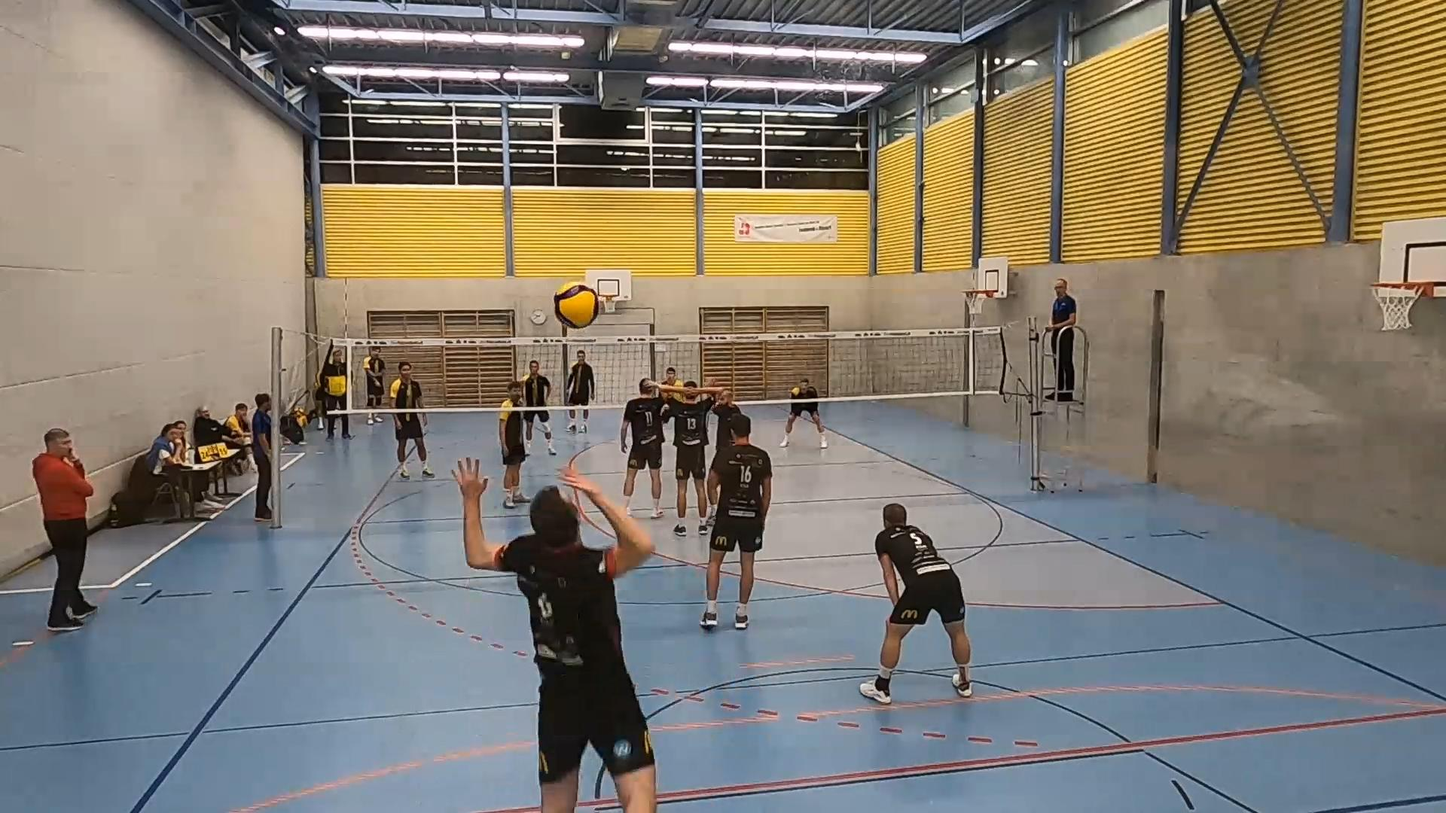battuta: (448, 456, 665, 812)
